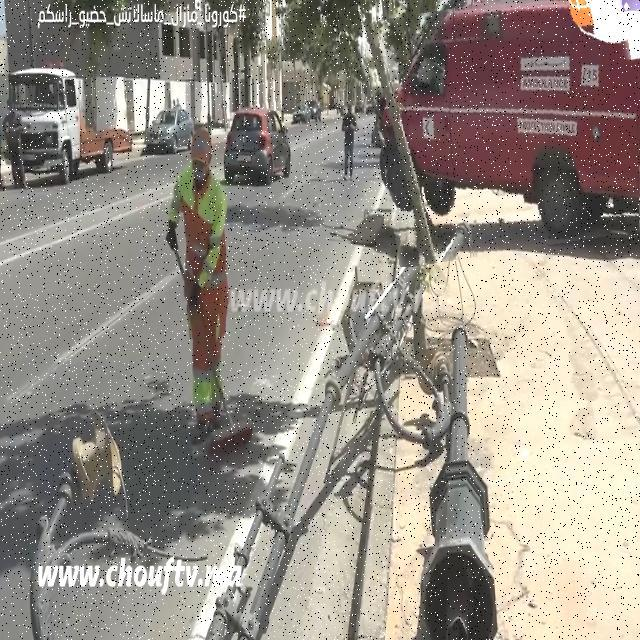ambulance: (370, 0, 640, 258)
